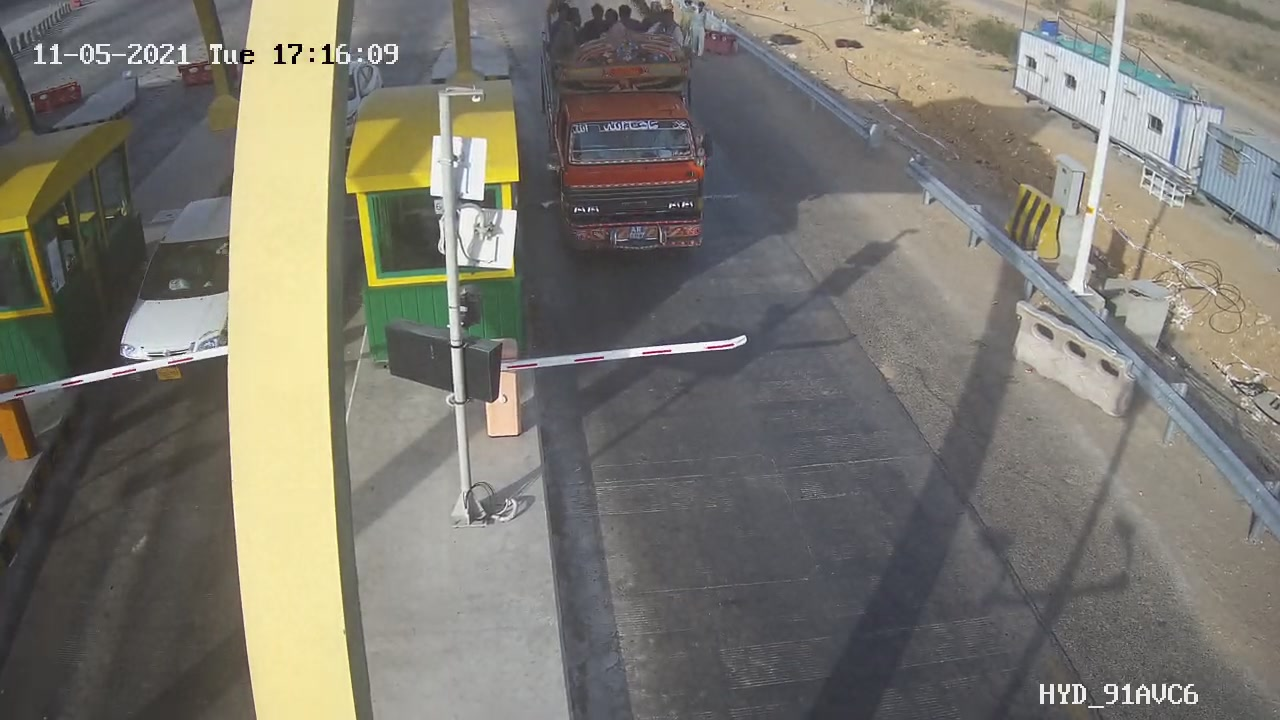F5: (527, 5, 740, 275)
